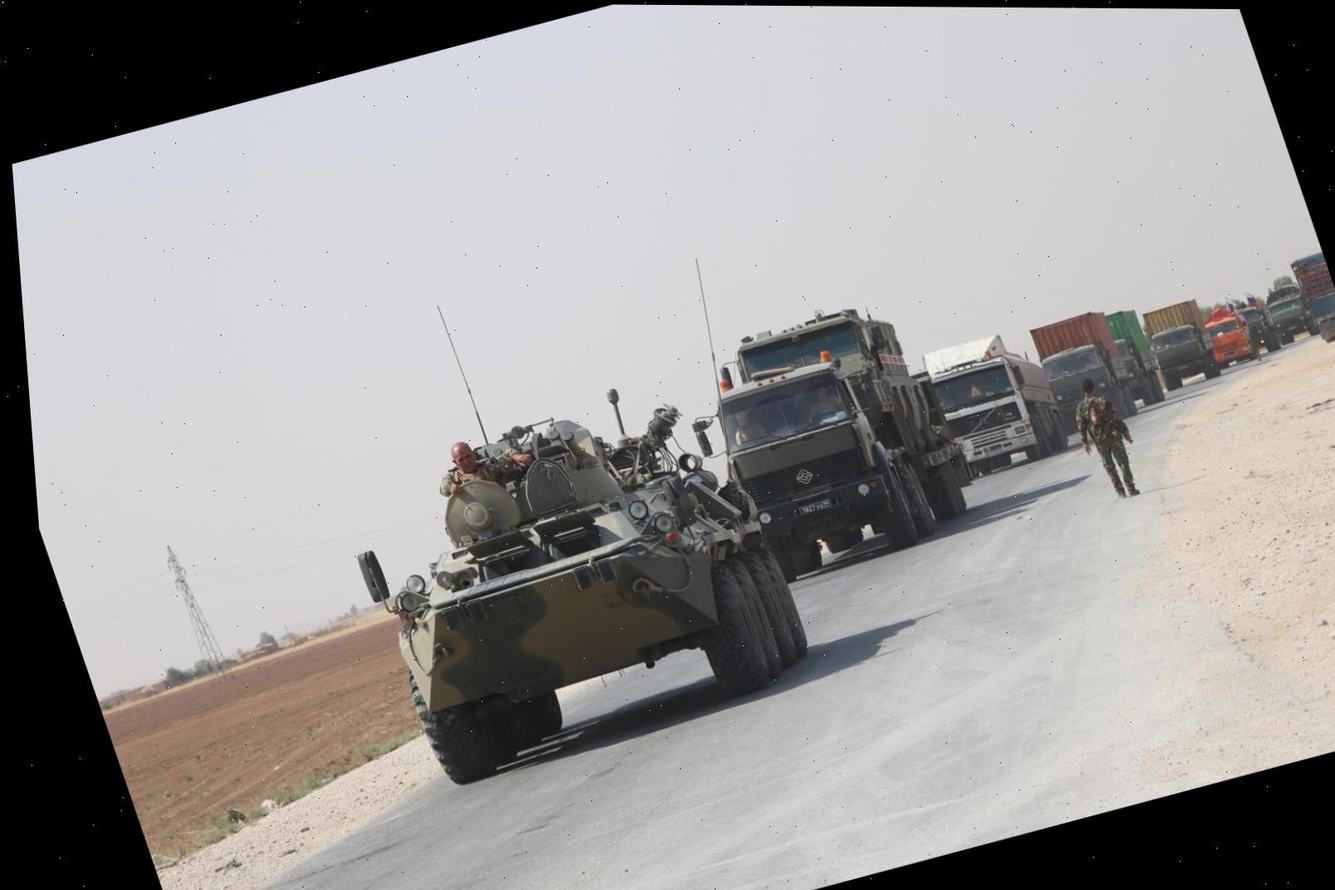person: (1058, 370, 1158, 515)
tank: (343, 383, 795, 789)
truck: (658, 295, 970, 596), (916, 328, 1066, 485), (1027, 303, 1149, 441), (1137, 294, 1232, 399), (1253, 276, 1319, 349)
